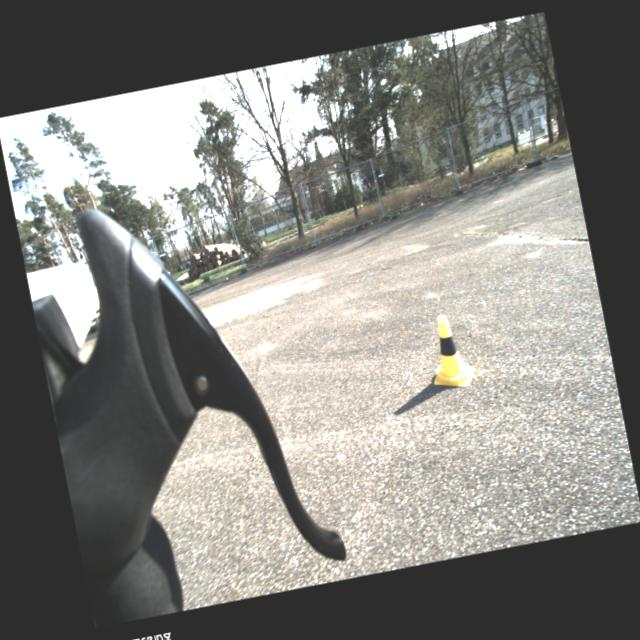yellow_cone: (420, 312, 478, 394)
